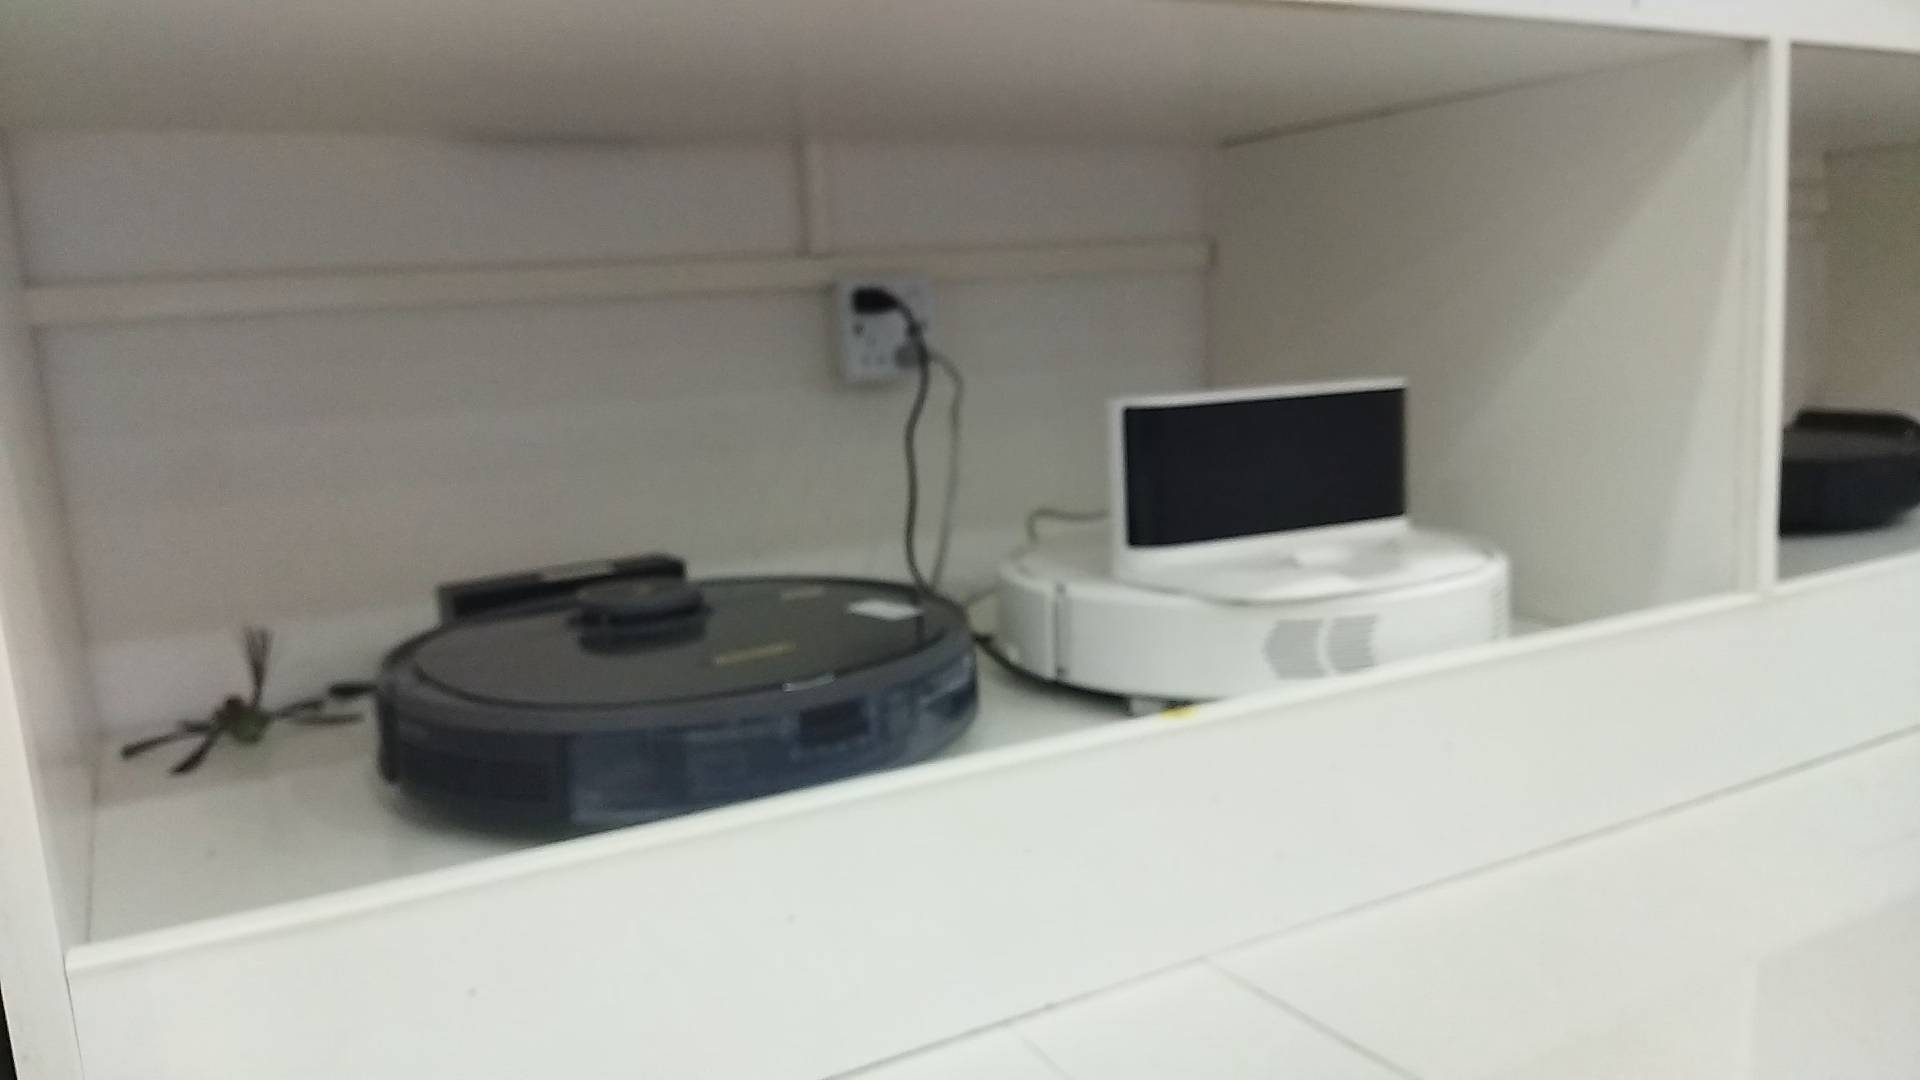recharge seat: (1108, 377, 1490, 604)
